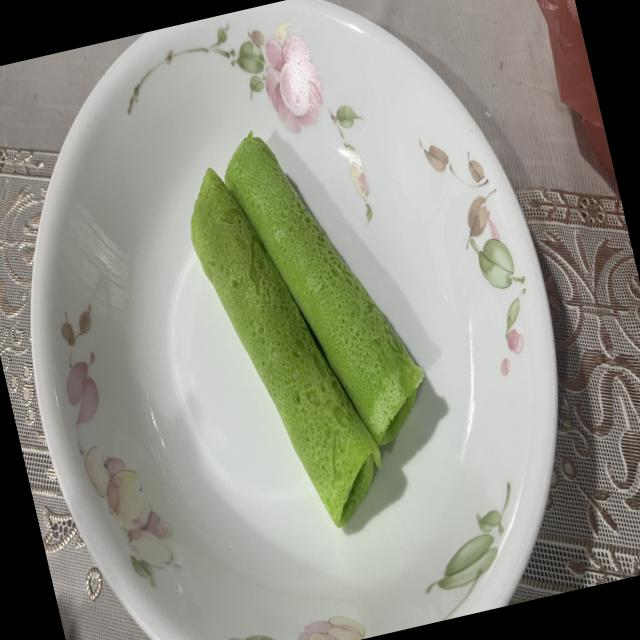Kuih-Ketayap: (190, 168, 381, 526), (225, 133, 424, 445)
